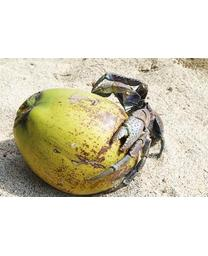coconut: (13, 88, 145, 195)
